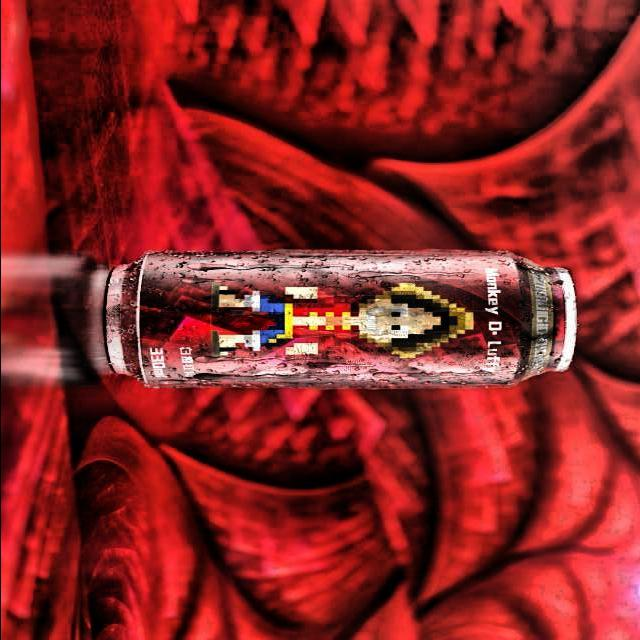Aluminum Can: (93, 250, 578, 395)
